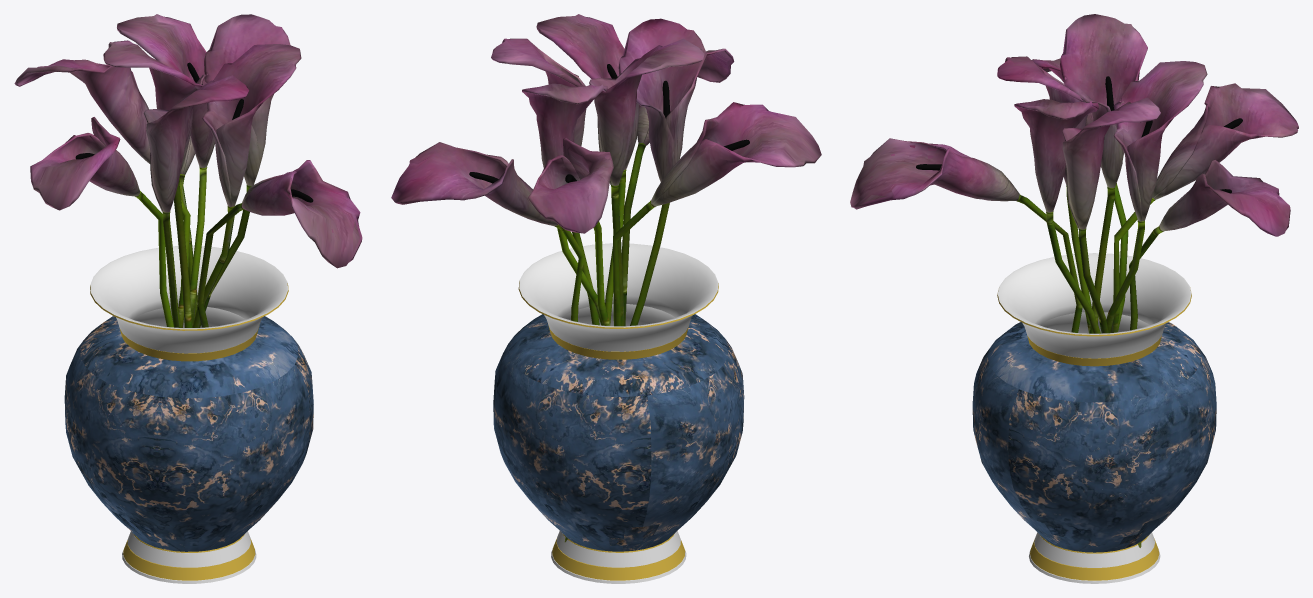
File: vase10.glb
The picture shows the model from 3 angles, left to right: view 1: azimuth 30°, elevation 25°; view 2: azimuth 150°, elevation 25°; view 3: azimuth 270°, elevation 25°; orthographic projection. The views are drawn at different scales.
Parts seen in each view (by area): view 1: Circle, Flower jug-02; view 2: Circle, Flower jug-02; view 3: Circle, Flower jug-02.
Part boxes in pixels (<box>): Circle: <box>64,245,313,583</box>; Flower jug-02: <box>14,14,362,327</box>; Circle: <box>493,243,744,583</box>; Flower jug-02: <box>391,14,821,542</box>; Circle: <box>972,253,1216,583</box>; Flower jug-02: <box>850,14,1298,547</box>.
Size of the model in its own units: 1.19 by 1.93 by 1.55.
6 materials, 4 textured.
